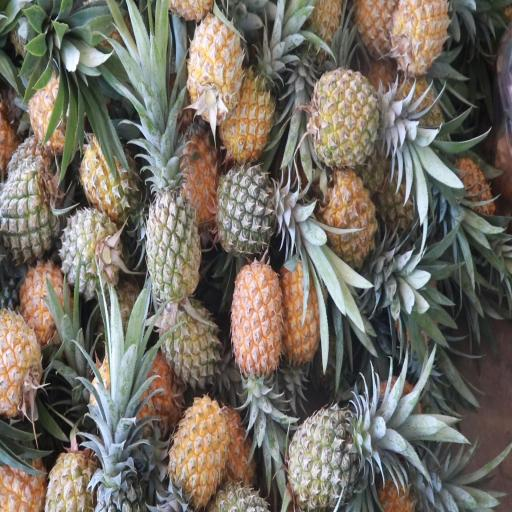------------------------------: (141, 145, 199, 296), (311, 63, 383, 167), (154, 293, 222, 393), (78, 132, 140, 217), (17, 264, 70, 360)
Pineapple - v8 v1: (166, 398, 236, 502), (229, 259, 284, 383), (185, 8, 244, 119), (219, 54, 274, 165), (280, 252, 331, 368), (166, 113, 217, 225), (324, 166, 378, 268), (0, 312, 42, 418), (394, 0, 450, 70)
